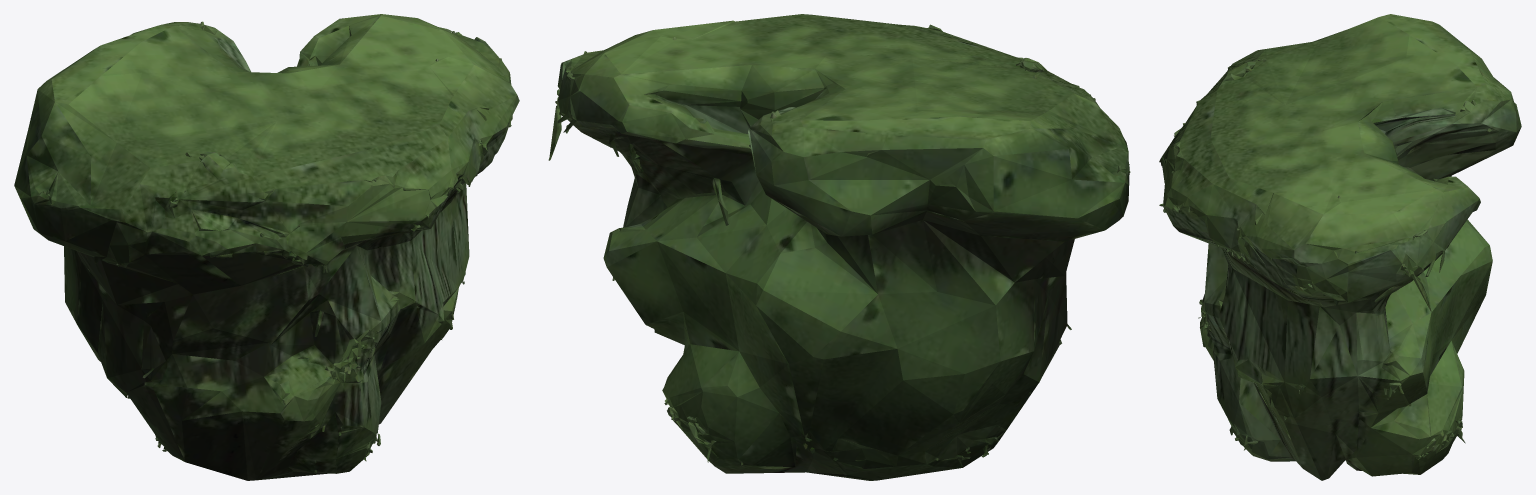
Rendered from bog_moss_curtain_01.glb.
3 renders of one model, left to right at view 1: azimuth 30°, elevation 25°; view 2: azimuth 150°, elevation 25°; view 3: azimuth 270°, elevation 25°, orthographic. The views are drawn at different scales.
Visible parts, largest first — view 1: geometry_0; view 2: geometry_0; view 3: geometry_0.
Boxes of the visible parts, left/top/right/bottom form: geometry_0: left=14, top=14, right=519, bottom=480; geometry_0: left=548, top=14, right=1130, bottom=480; geometry_0: left=1159, top=14, right=1521, bottom=480.
Size of the model in its own units: 0.995 by 0.7439 by 0.6899.
Materials: 1 (1 with a texture image).
